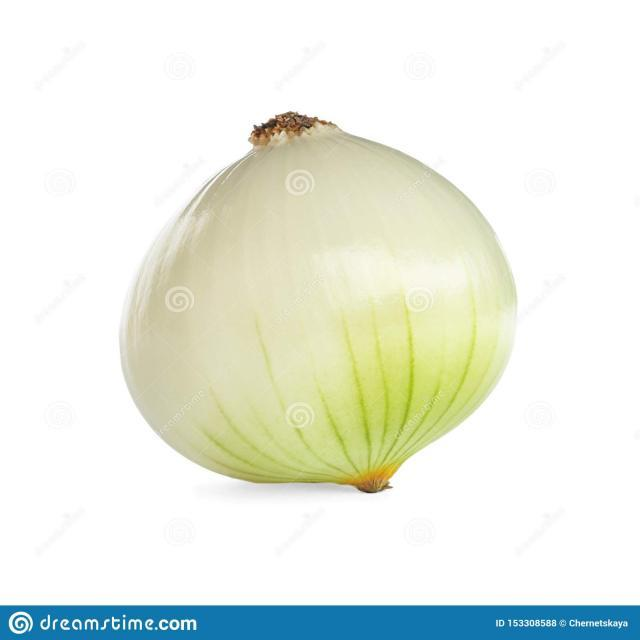onion: (118, 109, 521, 492)
